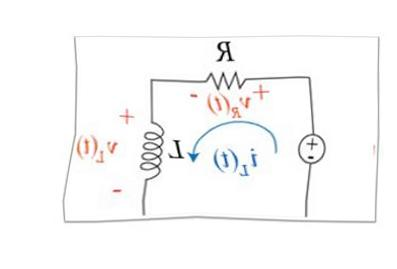Battery: (283, 122, 338, 171)
